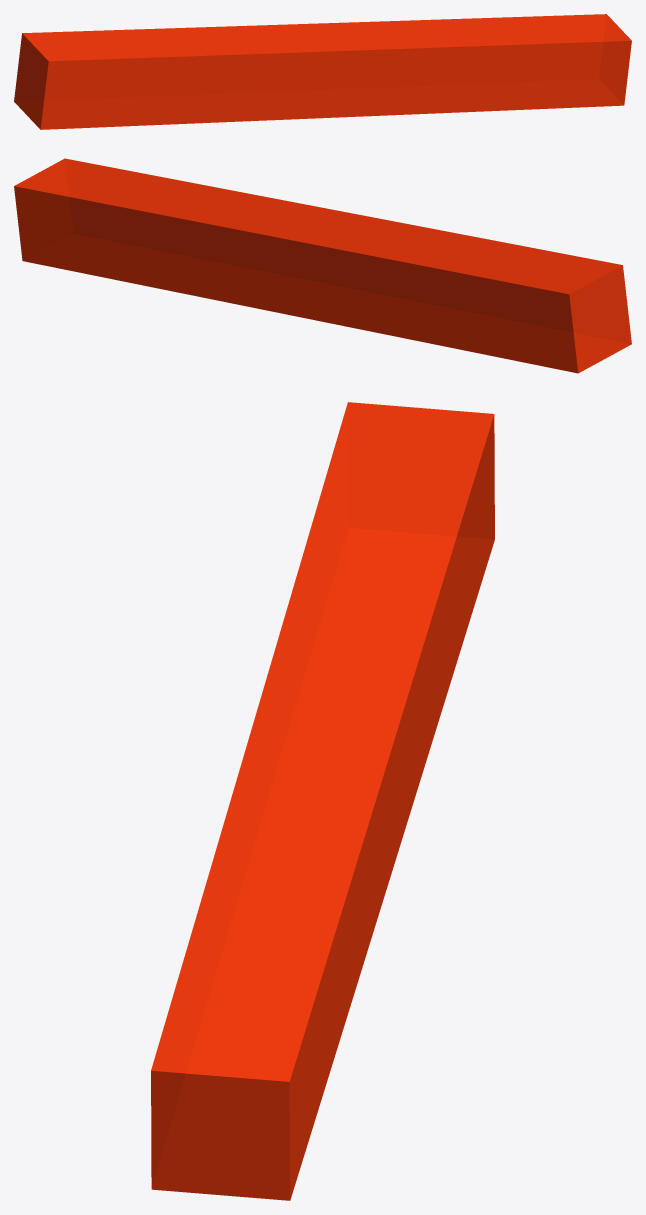
The model's file is Event_420604493_EErechit_3.fbx.
The picture shows the model from 3 angles, top to bottom: view 1: azimuth 30°, elevation 25°; view 2: azimuth 150°, elevation 25°; view 3: azimuth 270°, elevation 25°; orthographic projection. The views are drawn at different scales.
Visible parts, largest first — view 1: Model; view 2: Model; view 3: Model.
Part boxes in pixels (x1,y1,x2,y2): Model: (14, 14, 631, 129); Model: (14, 158, 631, 373); Model: (151, 402, 494, 1200).
Bounding box in the file's own units: 0.6581 × 0.1572 × 0.1778.
